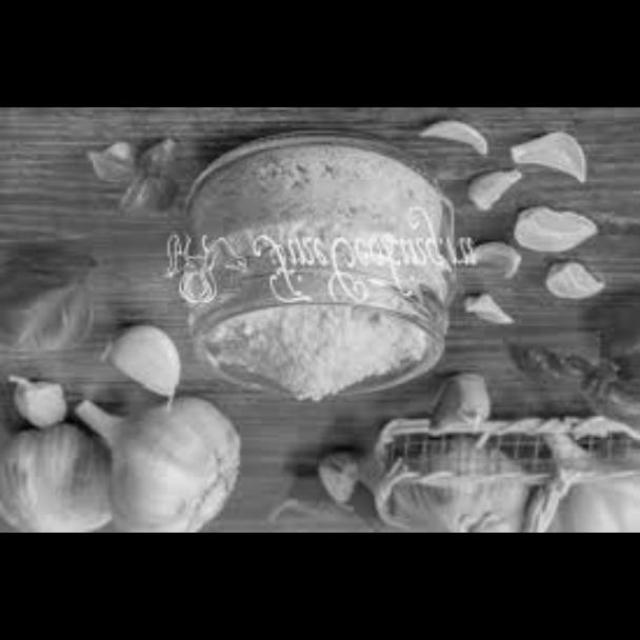toi: (451, 109, 600, 344), (371, 420, 640, 534), (72, 394, 261, 534), (0, 437, 107, 534), (89, 325, 191, 406), (429, 371, 504, 454), (7, 370, 75, 430)
